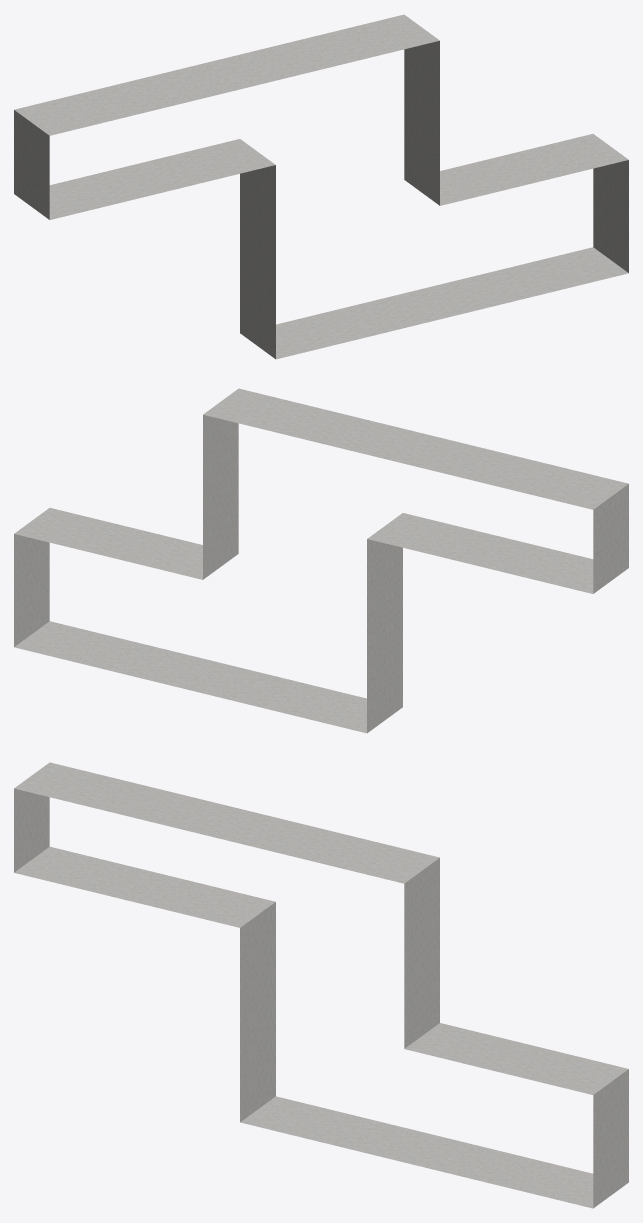
The model's file is output_walls.obj.
The picture shows the model from 3 angles, top to bottom: view 1: azimuth 30°, elevation 25°; view 2: azimuth 150°, elevation 25°; view 3: azimuth 330°, elevation 25°; orthographic projection.
Parts seen in each view (by area): view 1: wall_4, wall_7, wall_5, wall_2, wall_6, wall_1, wall_3, wall_0; view 2: wall_4, wall_7, wall_5, wall_2, wall_6, wall_1, wall_3, wall_0; view 3: wall_4, wall_7, wall_5, wall_2, wall_6, wall_1, wall_3, wall_0.
Part boxes in pixels (x1=…): wall_4: x1=14, y1=14, x2=439, y2=135; wall_7: x1=276, y1=247, x2=628, y2=359; wall_5: x1=49, y1=139, x2=275, y2=219; wall_2: x1=240, y1=165, x2=275, y2=359; wall_6: x1=440, y1=134, x2=628, y2=205; wall_1: x1=404, y1=40, x2=439, y2=205; wall_3: x1=593, y1=160, x2=628, y2=272; wall_0: x1=14, y1=110, x2=49, y2=219; wall_4: x1=203, y1=388, x2=628, y2=509; wall_7: x1=14, y1=621, x2=366, y2=733; wall_5: x1=367, y1=513, x2=593, y2=593; wall_2: x1=367, y1=539, x2=402, y2=733; wall_6: x1=14, y1=508, x2=202, y2=579; wall_1: x1=203, y1=414, x2=238, y2=579; wall_3: x1=14, y1=534, x2=49, y2=646; wall_0: x1=593, y1=484, x2=628, y2=593; wall_4: x1=14, y1=762, x2=439, y2=883; wall_7: x1=240, y1=1096, x2=593, y2=1208; wall_5: x1=14, y1=846, x2=275, y2=927; wall_2: x1=240, y1=902, x2=275, y2=1122; wall_6: x1=405, y1=1023, x2=628, y2=1094; wall_1: x1=404, y1=858, x2=439, y2=1048; wall_3: x1=593, y1=1069, x2=628, y2=1208; wall_0: x1=14, y1=788, x2=49, y2=872.
Size of the model in its own units: 0.3652 by 0.168 by 0.0391.
